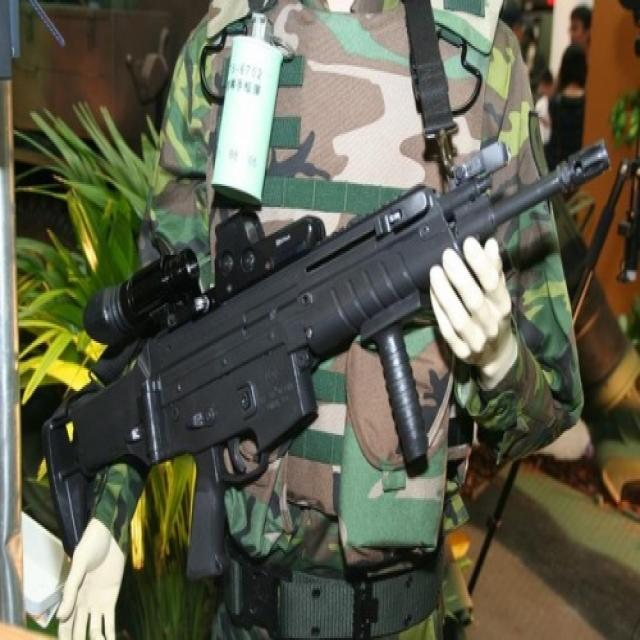rifle: (41, 125, 617, 591)
